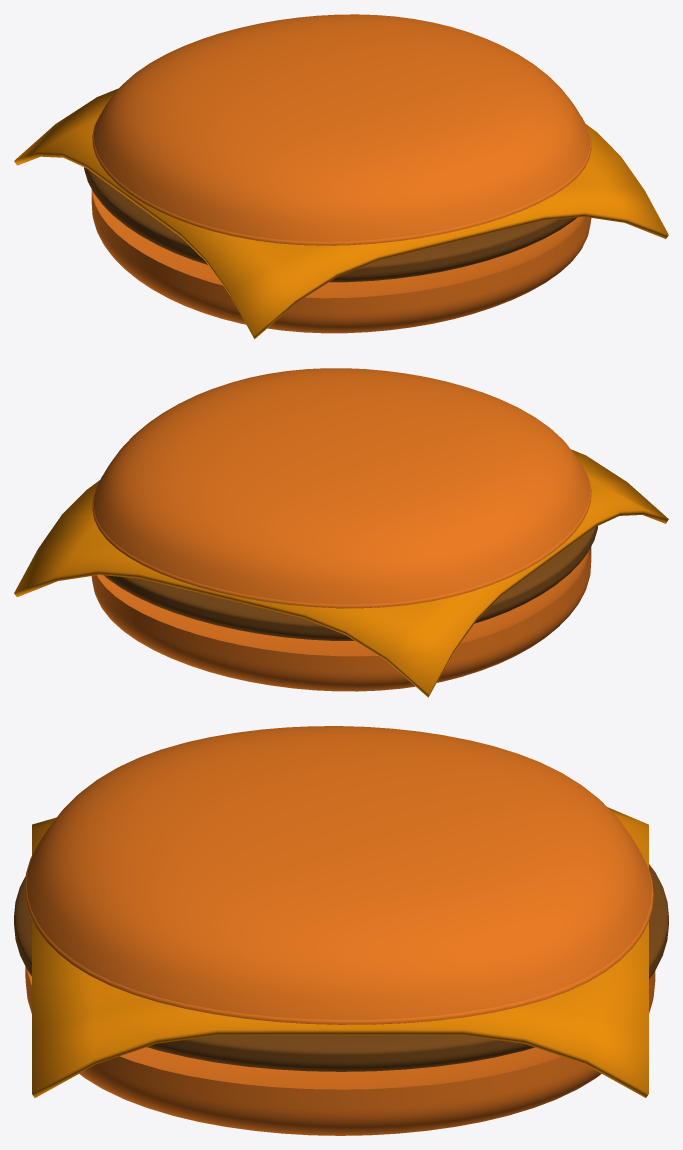
The model's file is hamburger.gltf.
The picture shows the model from 3 angles, top to bottom: view 1: azimuth 30°, elevation 25°; view 2: azimuth 150°, elevation 25°; view 3: azimuth 270°, elevation 25°; orthographic projection. The views are drawn at different scales.
Visible parts, largest first — view 1: Cube.002, Plane, Cube, Cube.001; view 2: Cube.002, Cube, Plane, Cube.001; view 3: Cube.002, Plane, Cube, Cube.001.
Part boxes in pixels (x1,y1,x2,y2): Cube.002: [92, 14, 591, 245]; Plane: [14, 88, 668, 339]; Cube: [91, 189, 591, 333]; Cube.001: [84, 167, 576, 282]; Cube.002: [92, 368, 591, 608]; Cube: [91, 547, 591, 691]; Plane: [14, 449, 668, 697]; Cube.001: [104, 526, 597, 640]; Cube.002: [24, 726, 653, 1024]; Plane: [32, 807, 648, 1097]; Cube: [25, 966, 655, 1135]; Cube.001: [14, 864, 668, 1071].
Size of the model in its own units: 9.57 by 3.85 by 9.57.
